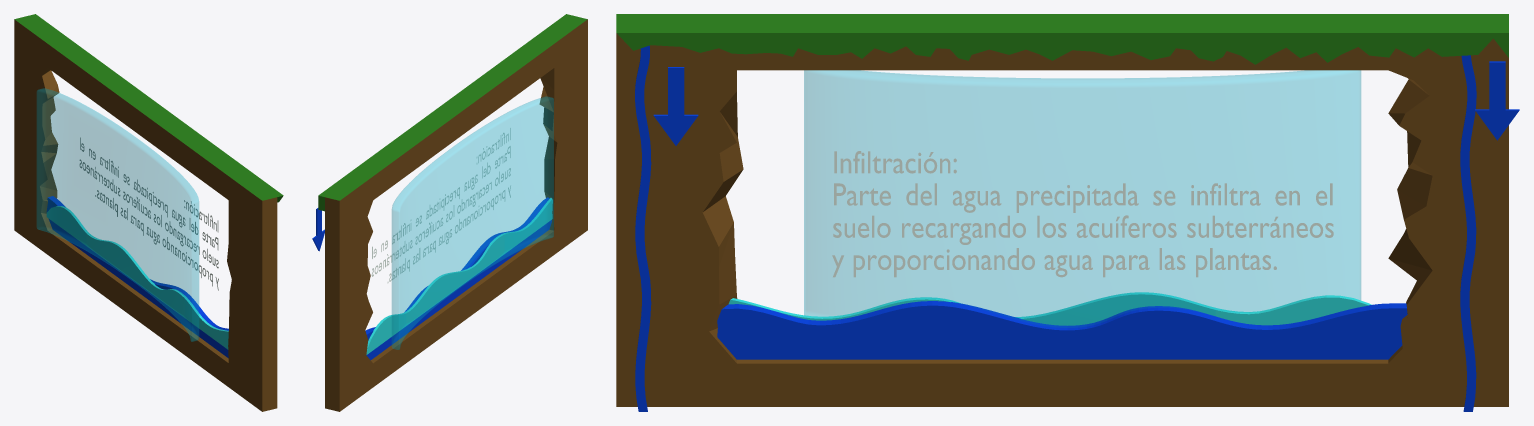
The model's file is 1infiltracion.glb.
3 views of the same model, side by side, from view 1: azimuth 30°, elevation 25°; view 2: azimuth 150°, elevation 25°; view 3: azimuth 270°, elevation 25° (orthographic). The views are drawn at different scales.
Visible parts, largest first — view 1: marco, Cube, agua2, infiltracion, agua; view 2: marco, Cube, agua2, infiltracion, agua, Plano.002; view 3: marco, Cube, agua, infiltracion, agua2, Curva_Bezier, Curva_Bezier.003, Plano.001, Plano.002.
Part boxes in pixels (box(x1,y1,x2,y2)): marco: box(14, 14, 283, 411); Cube: box(37, 88, 198, 341); agua2: box(46, 206, 228, 349); infiltracion: box(79, 137, 218, 290); agua: box(46, 196, 228, 358); marco: box(318, 14, 587, 411); Cube: box(392, 96, 553, 349); agua2: box(366, 198, 552, 354); infiltracion: box(371, 128, 510, 283); agua: box(365, 197, 551, 360); Plano.002: box(312, 208, 324, 251); marco: box(616, 14, 1508, 406); Cube: box(804, 70, 1360, 327); agua: box(717, 301, 1407, 359); infiltracion: box(832, 151, 1333, 277); agua2: box(728, 292, 1371, 325); Curva_Bezier: box(635, 45, 651, 411); Curva_Bezier.003: box(1460, 55, 1476, 411); Plano.001: box(653, 67, 698, 145); Plano.002: box(1475, 61, 1519, 140).
Size of the model in its own units: 0.323 by 1.52 by 3.24.
